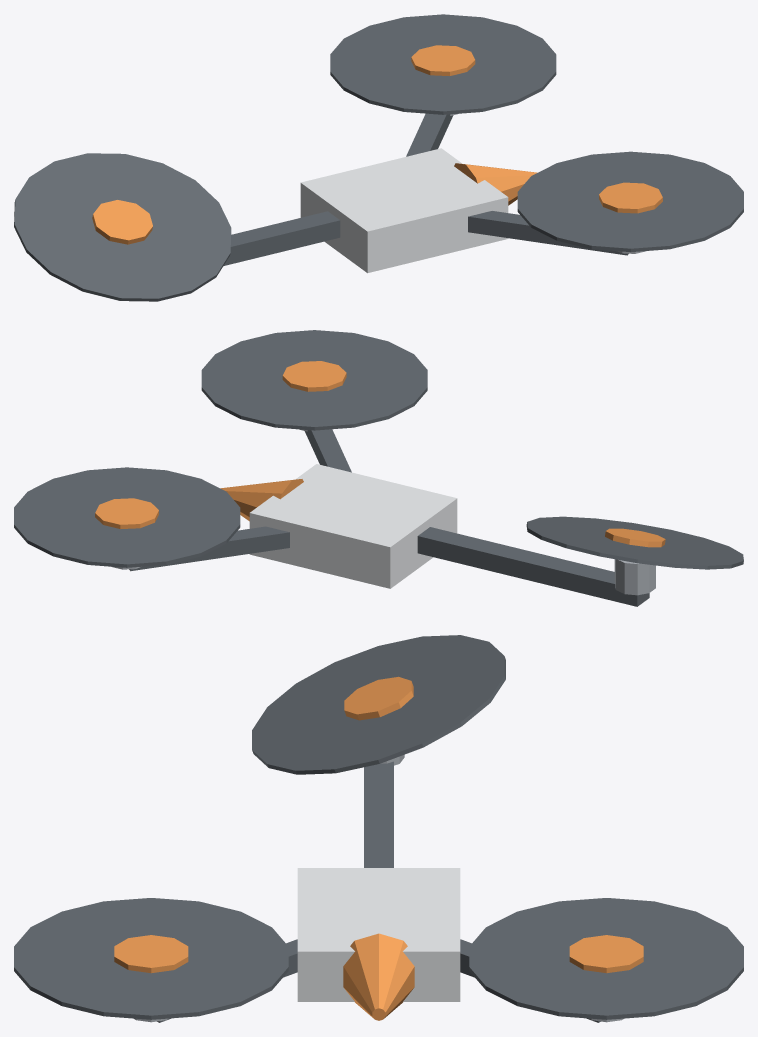
Rendered from tricopter.glb.
The picture shows the model from 3 angles, top to bottom: view 1: azimuth 30°, elevation 25°; view 2: azimuth 150°, elevation 25°; view 3: azimuth 270°, elevation 25°; orthographic projection. The views are drawn at different scales.
Bounding box in the file's own units: 3.68 × 0.666 × 3.14.
